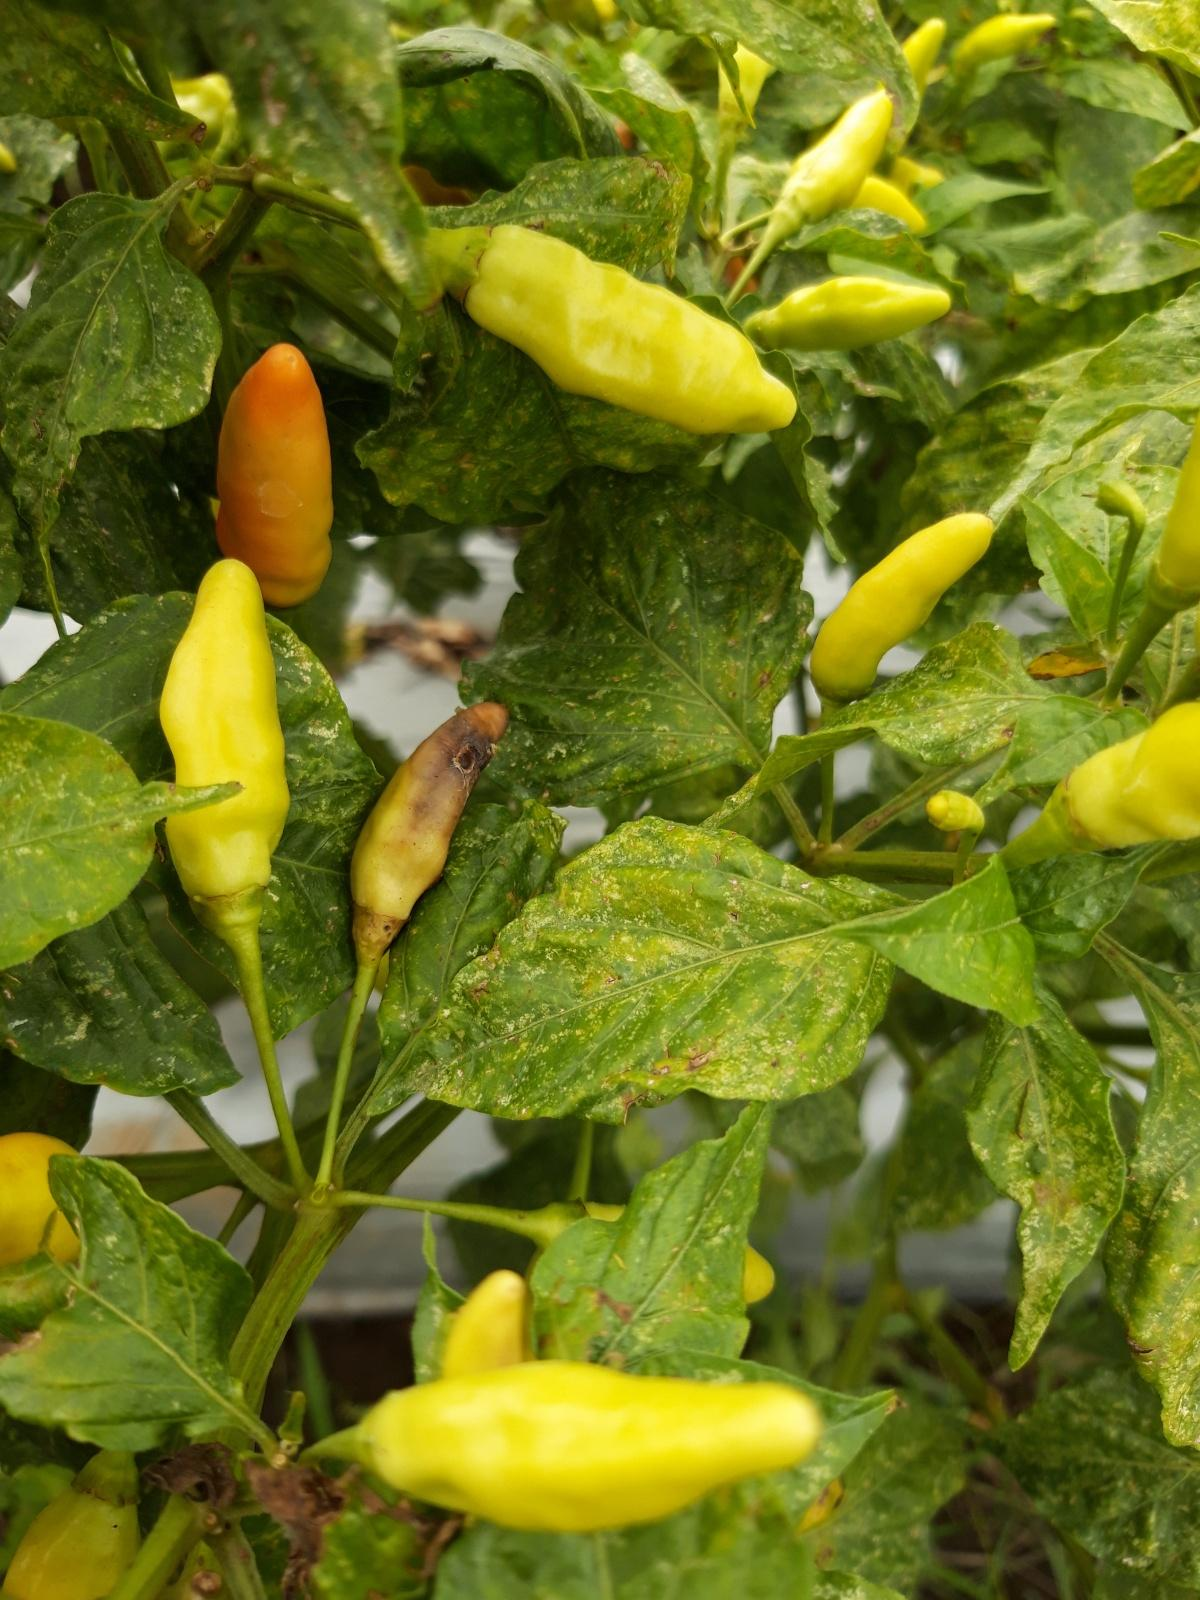cabai_normal: (358, 1361, 826, 1536), (466, 224, 798, 438), (161, 563, 291, 913), (812, 511, 995, 695), (216, 339, 333, 596), (1071, 703, 1200, 852), (769, 89, 892, 232), (751, 275, 952, 349), (437, 1267, 528, 1378), (954, 14, 1058, 66), (901, 16, 947, 76)
lalat_buah: (347, 700, 513, 932)
